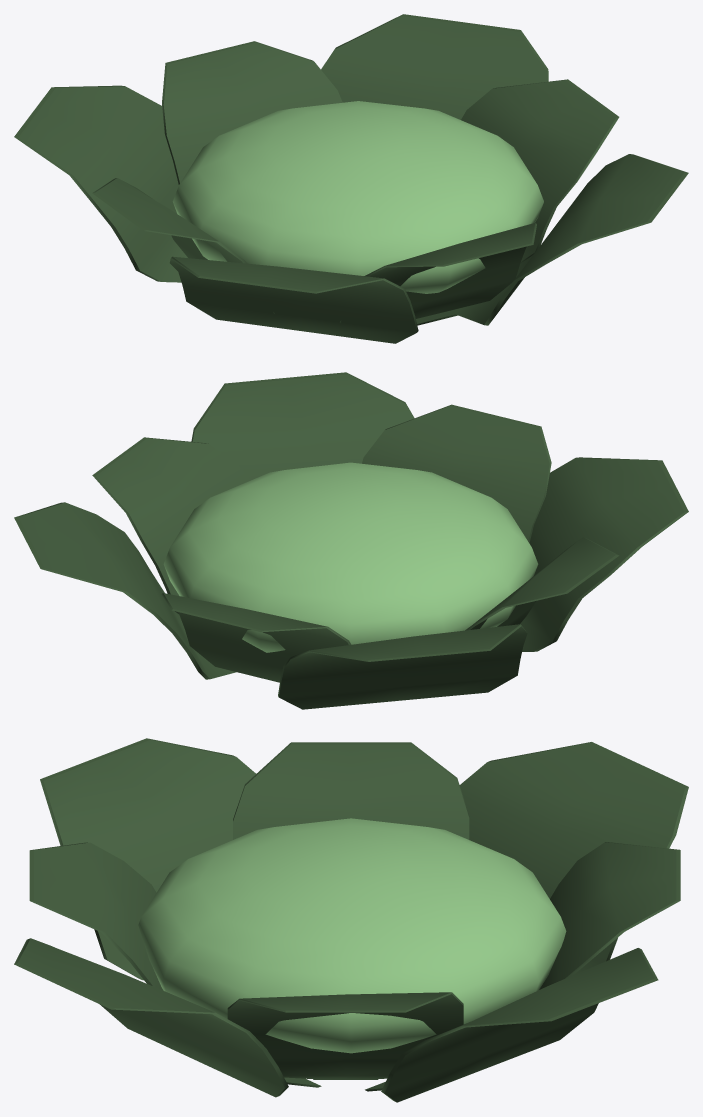
Rendered from SM_Lettuce.fbx.
The picture shows the model from 3 angles, top to bottom: view 1: azimuth 30°, elevation 25°; view 2: azimuth 150°, elevation 25°; view 3: azimuth 270°, elevation 25°; orthographic projection. The views are drawn at different scales.
Visible parts, largest first — view 1: LettuceLeaves, LettuceBase; view 2: LettuceLeaves, LettuceBase; view 3: LettuceLeaves, LettuceBase.
Boxes of the visible parts, x1,y1,x2,y2 form: LettuceLeaves: (14,14,688,343); LettuceBase: (172,101,543,293); LettuceLeaves: (14,372,688,709); LettuceBase: (163,462,538,652); LettuceLeaves: (14,738,688,1102); LettuceBase: (138,818,566,1053).
Bounding box in the file's own units: 21.62 × 6.94 × 21.79.
